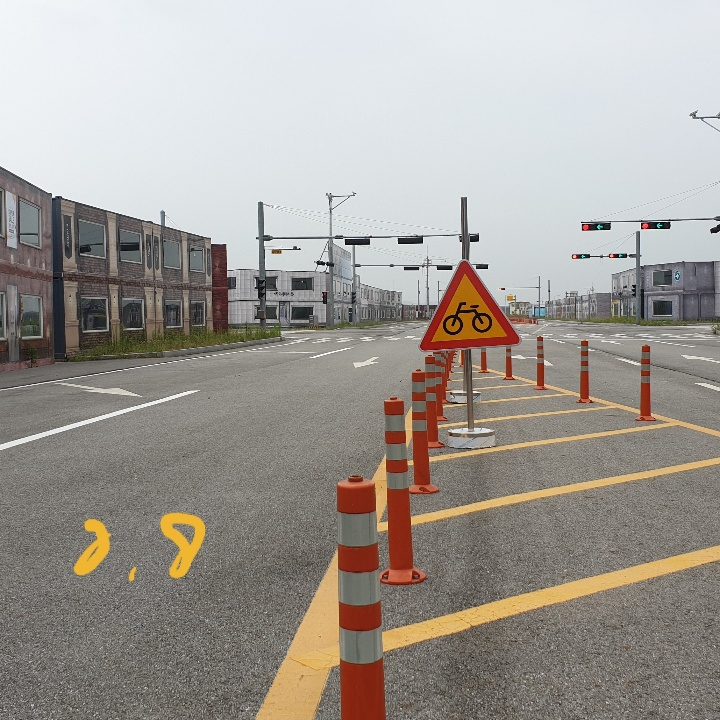bicycle: (418, 259, 523, 350)
